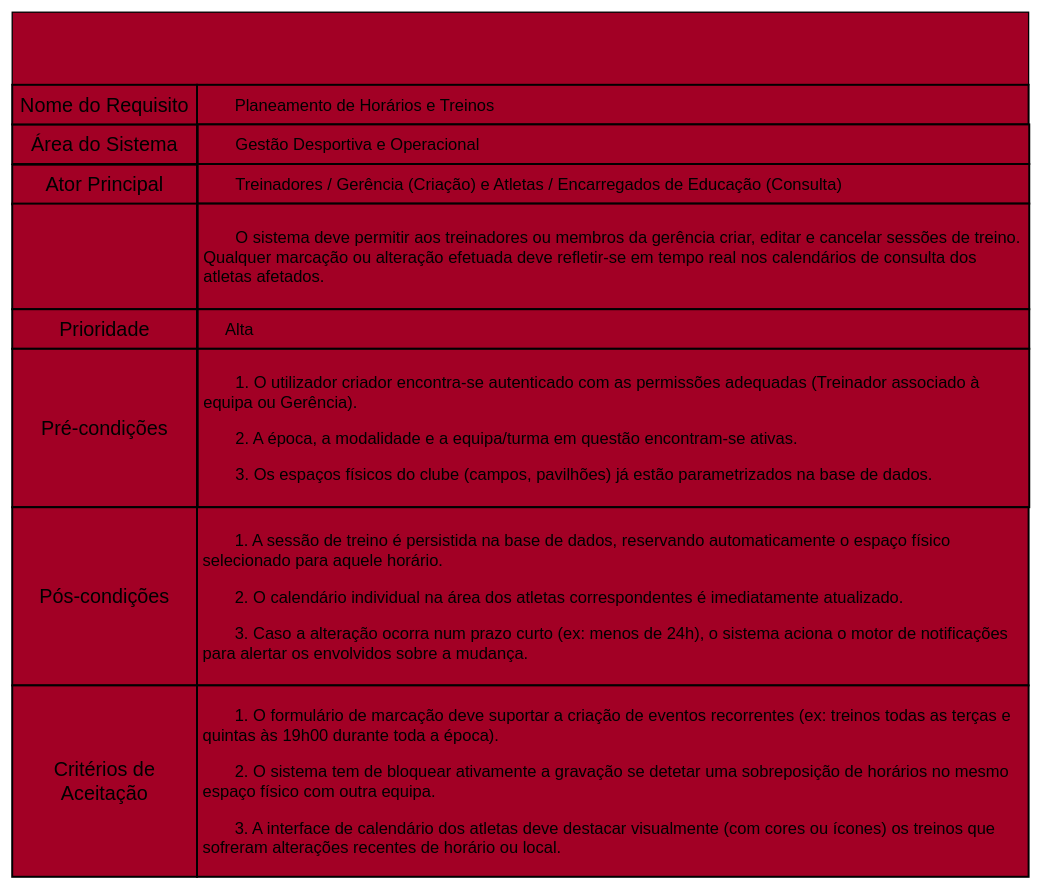
The diagram is 1041 pixels wide and 889 high, and some of its shapes have lost their labels. The shapes that lost their labels are listed below. From the top down, each one's centre as x and y in pixels, then its label:
At point (520, 48): "RF-06".
At point (104, 256): "Descrição".
